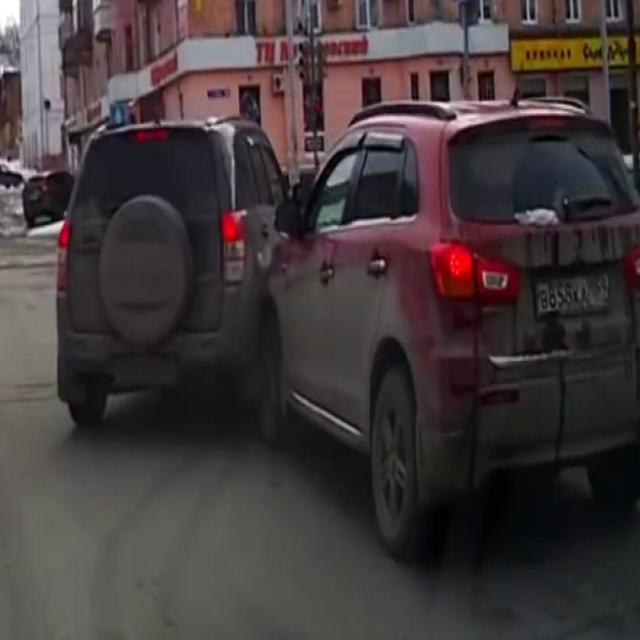accident: (60, 115, 537, 540)
